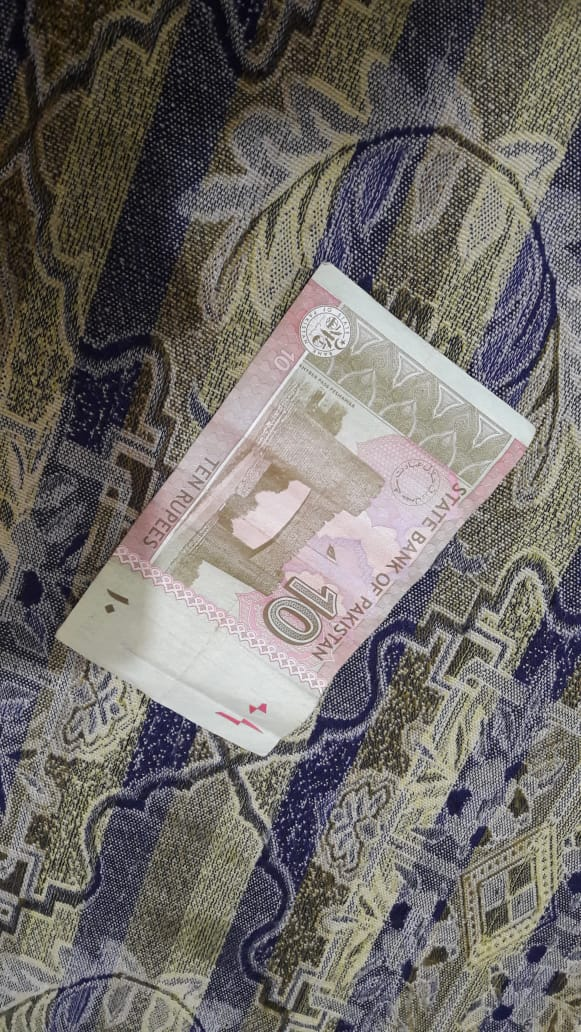10 rupee: (60, 253, 539, 762)
